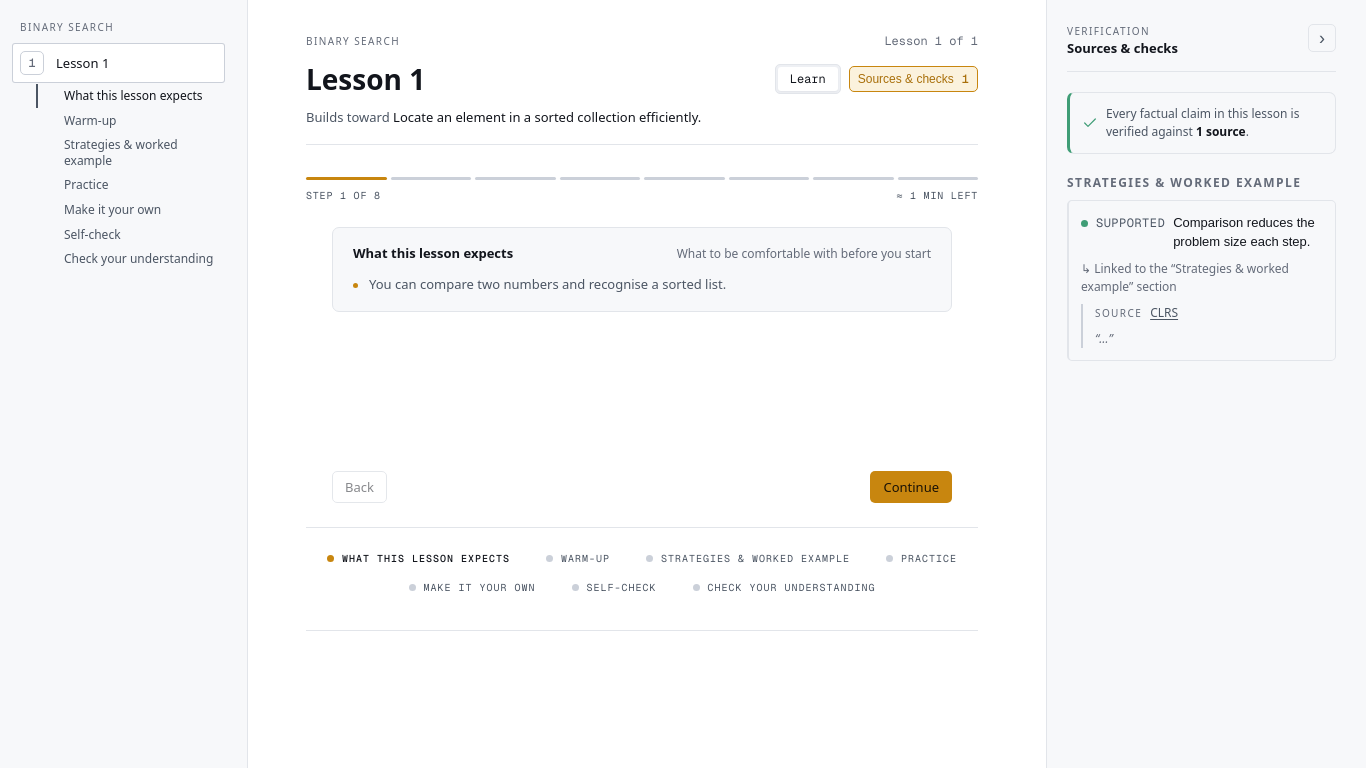
Test: CourseReader — annotation rail › the header Sources toggle collapses and restores the rail on wide screens
This screenshot has width=1366, height=768.
Click the button "Sources & checks 1": (913, 79) [849, 66, 978, 92]
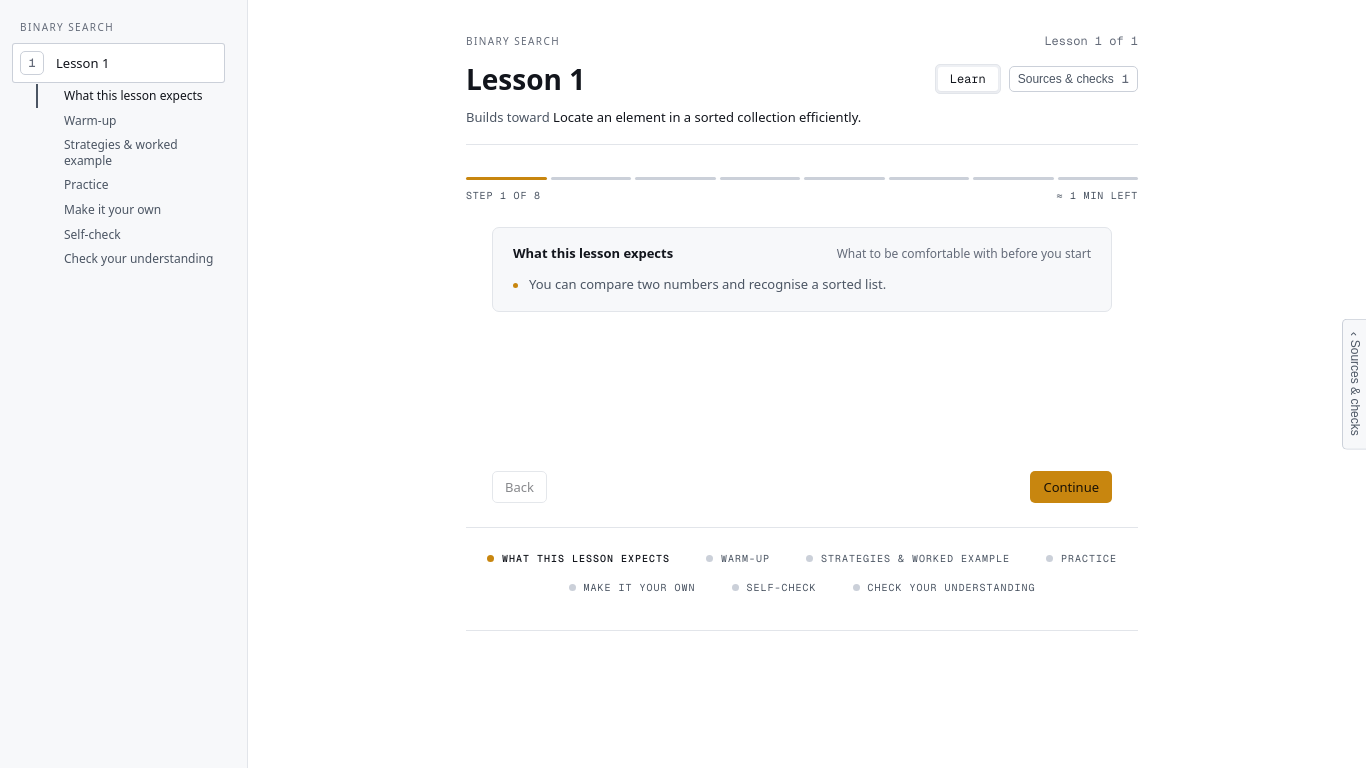
Now the button "Sources & checks 1" is collapsed
// …and restores.
Click the button "Sources & checks 1": (1073, 79) [1009, 66, 1138, 92]
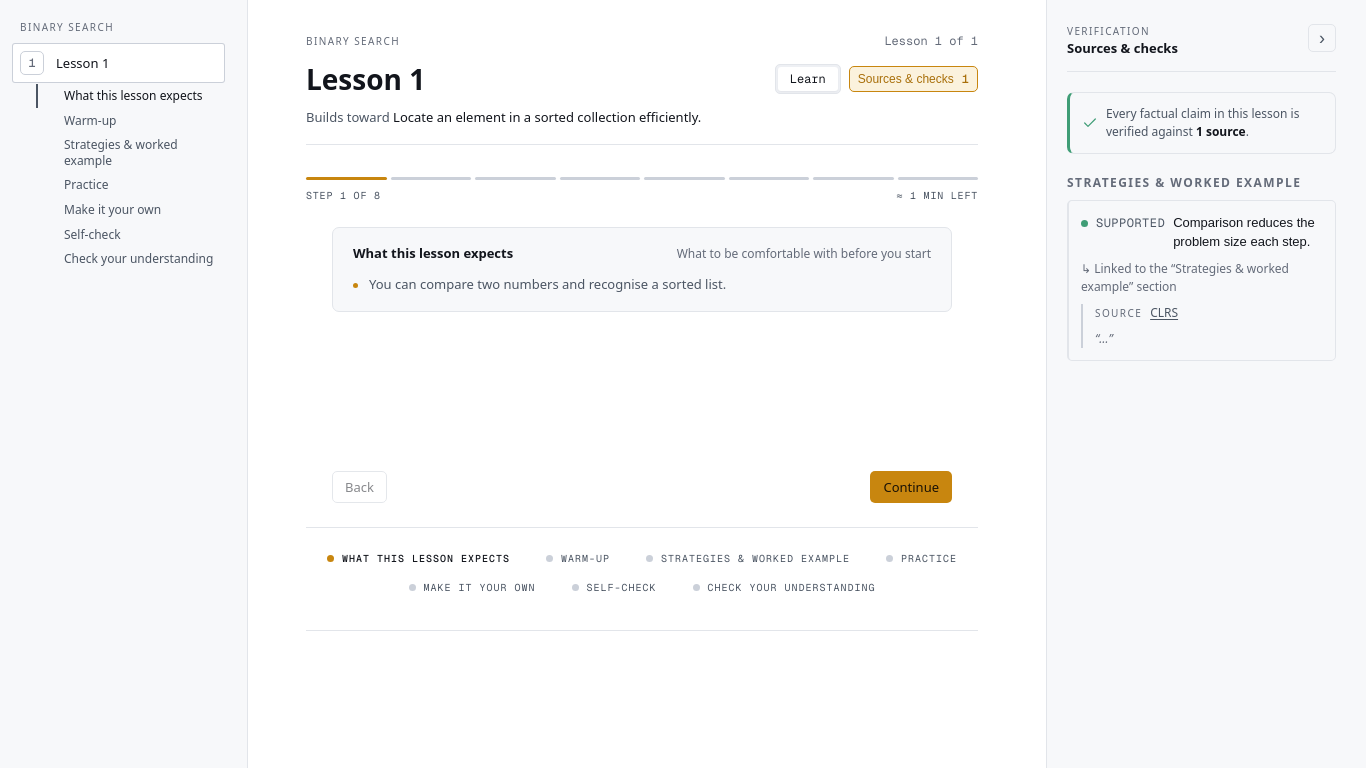
Now the button "Sources & checks 1" is expanded, box [849, 66, 978, 92]
